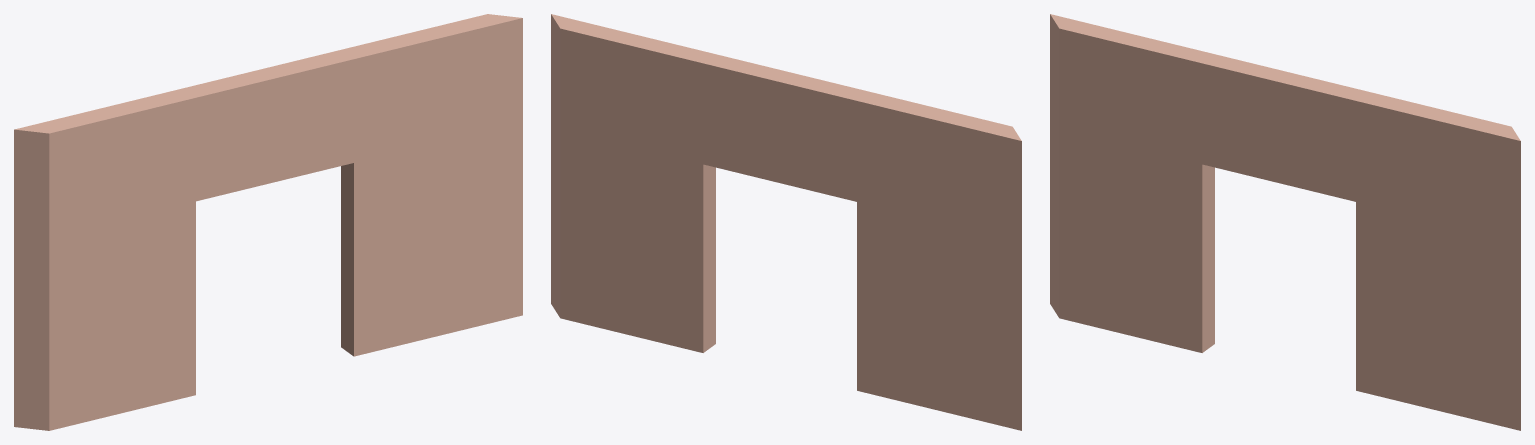
The model's file is Walls and Floors with Doors.fbx_CWall_Inner_Outer_Door.fbx.
The picture shows the model from 3 angles, left to right: view 1: azimuth 30°, elevation 25°; view 2: azimuth 150°, elevation 25°; view 3: azimuth 330°, elevation 25°; orthographic projection. The views are drawn at different scales.
Visible parts, largest first — view 1: CWall Inner Outer Door; view 2: CWall Inner Outer Door; view 3: CWall Inner Outer Door.
Boxes of the visible parts, bbox=[...] form: CWall Inner Outer Door: bbox=[14, 14, 522, 430]; CWall Inner Outer Door: bbox=[551, 14, 1021, 430]; CWall Inner Outer Door: bbox=[1050, 14, 1520, 430].
Size of the model in its own units: 1571 by 900 by 70.71.
